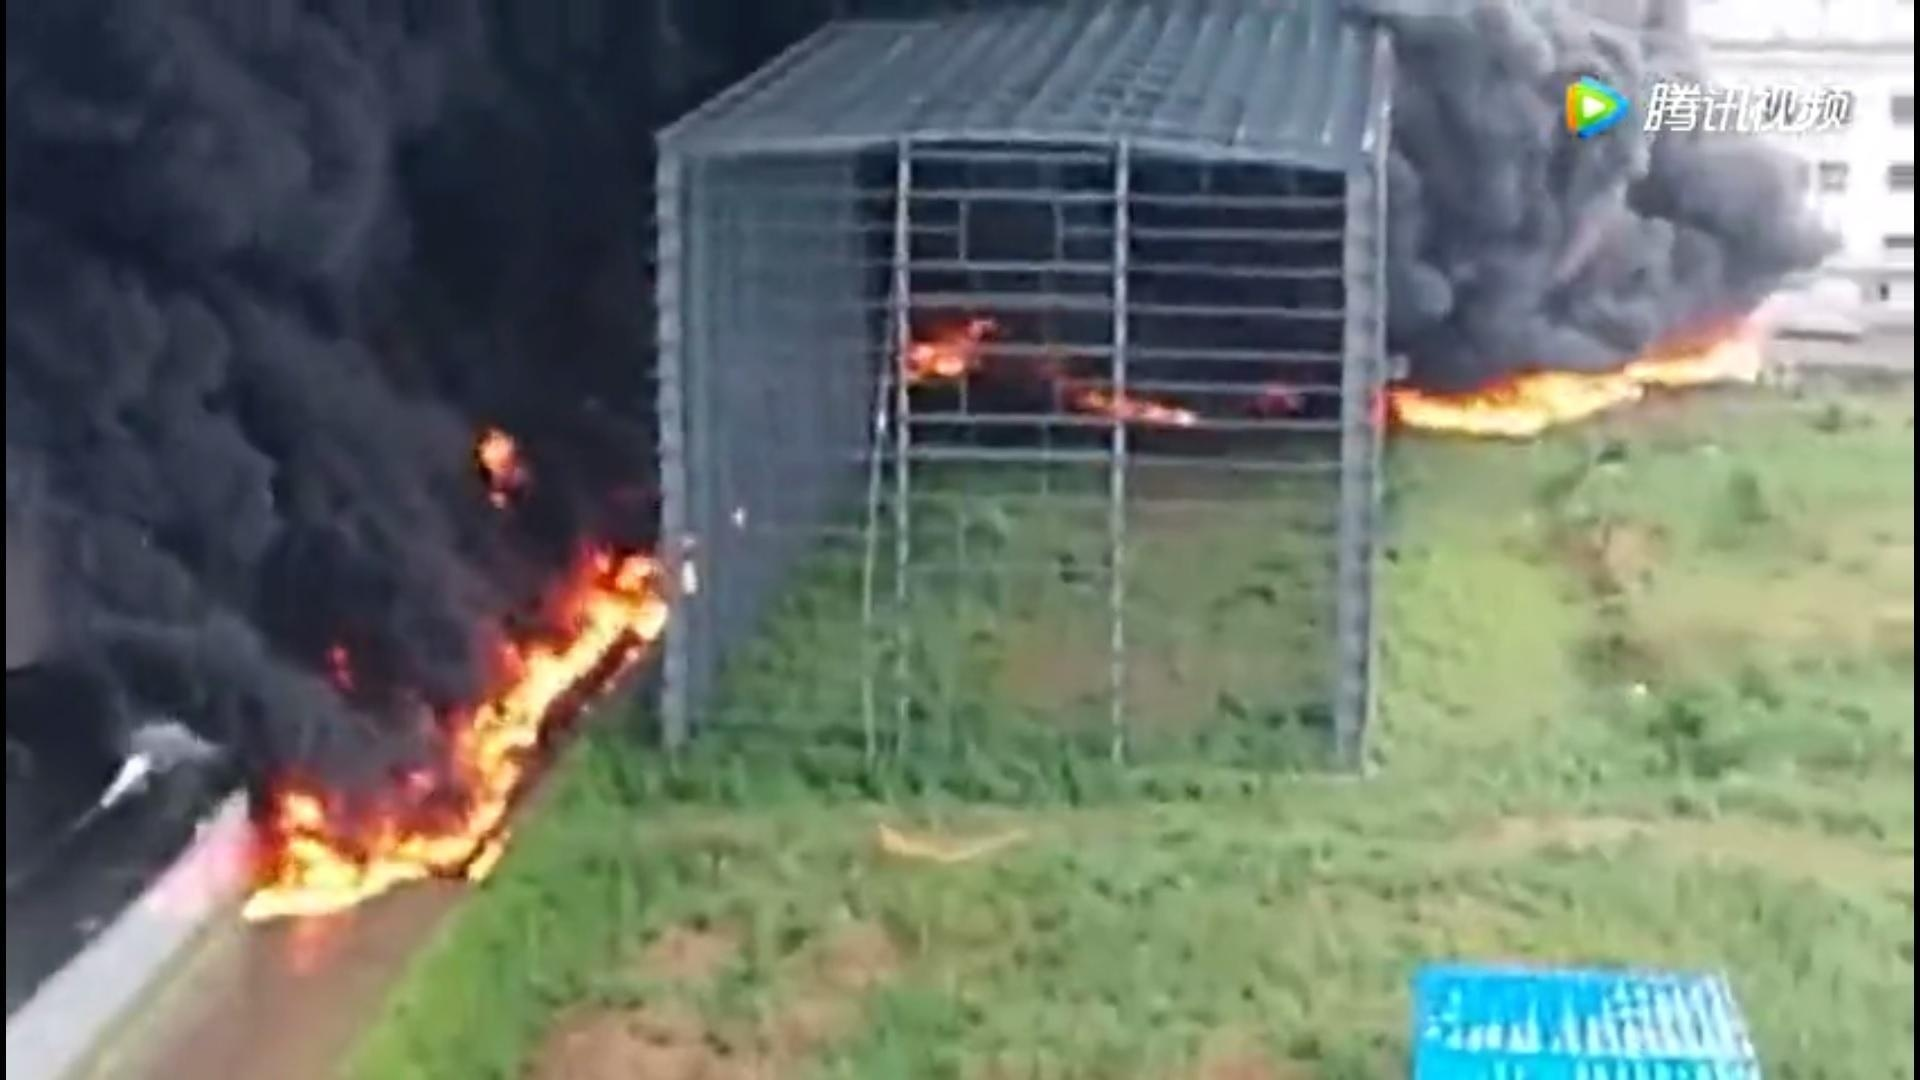fire: (237, 545, 674, 915), (1387, 320, 1768, 433), (902, 309, 993, 381)
